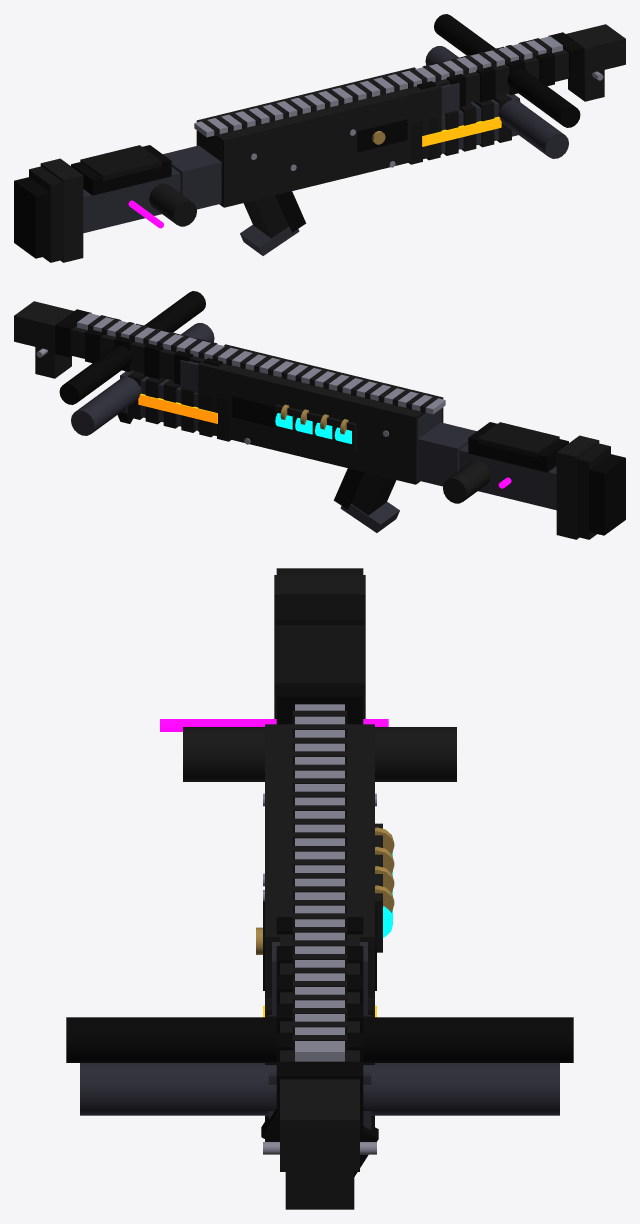
File: pompa.glb
3 renders of one model, top to bottom at view 1: azimuth 30°, elevation 25°; view 2: azimuth 150°, elevation 25°; view 3: azimuth 270°, elevation 25°, orthographic. The views are drawn at different scales.
Visible parts, largest first — view 1: Shotgun; view 2: Shotgun; view 3: Shotgun.
Part boxes in pixels (box(x1,y1,x2,y2)): Shotgun: box(14, 14, 625, 262); Shotgun: box(14, 291, 625, 539); Shotgun: box(66, 568, 573, 1209).
Bounding box in the file's own units: 5.98 × 1.3 × 2.22.
